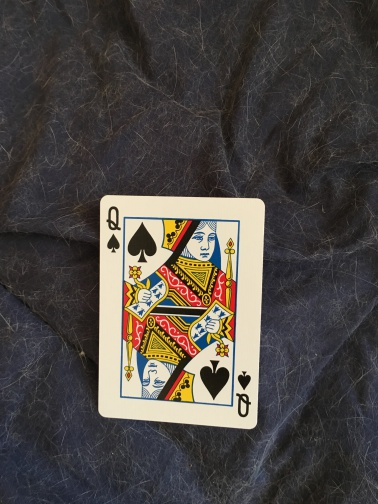queen: (95, 193, 266, 431)
